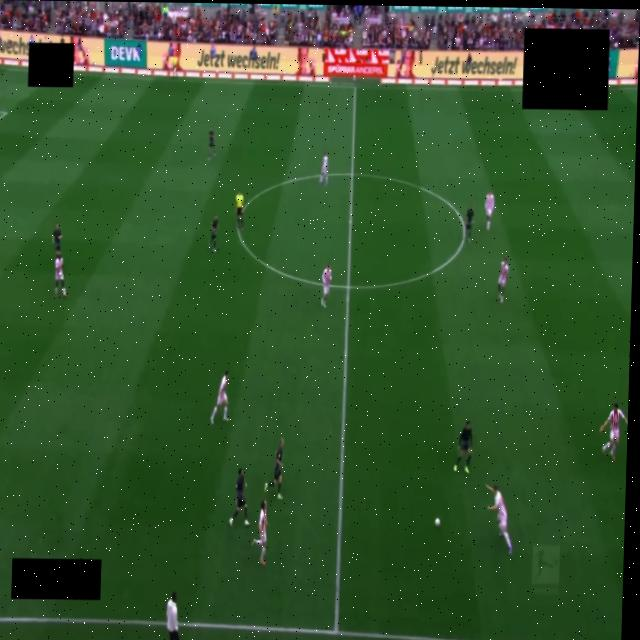ball: (435, 519, 440, 527)
player: (486, 485, 512, 554), (599, 403, 627, 459), (230, 468, 249, 526), (265, 438, 283, 499), (252, 500, 267, 566), (454, 421, 472, 473), (211, 371, 228, 424), (54, 251, 66, 298), (498, 258, 508, 303), (321, 265, 331, 308), (485, 191, 495, 230), (465, 204, 474, 243), (209, 215, 218, 251), (320, 152, 328, 185), (53, 224, 62, 252), (208, 130, 215, 160)
referee: (234, 190, 245, 232)
